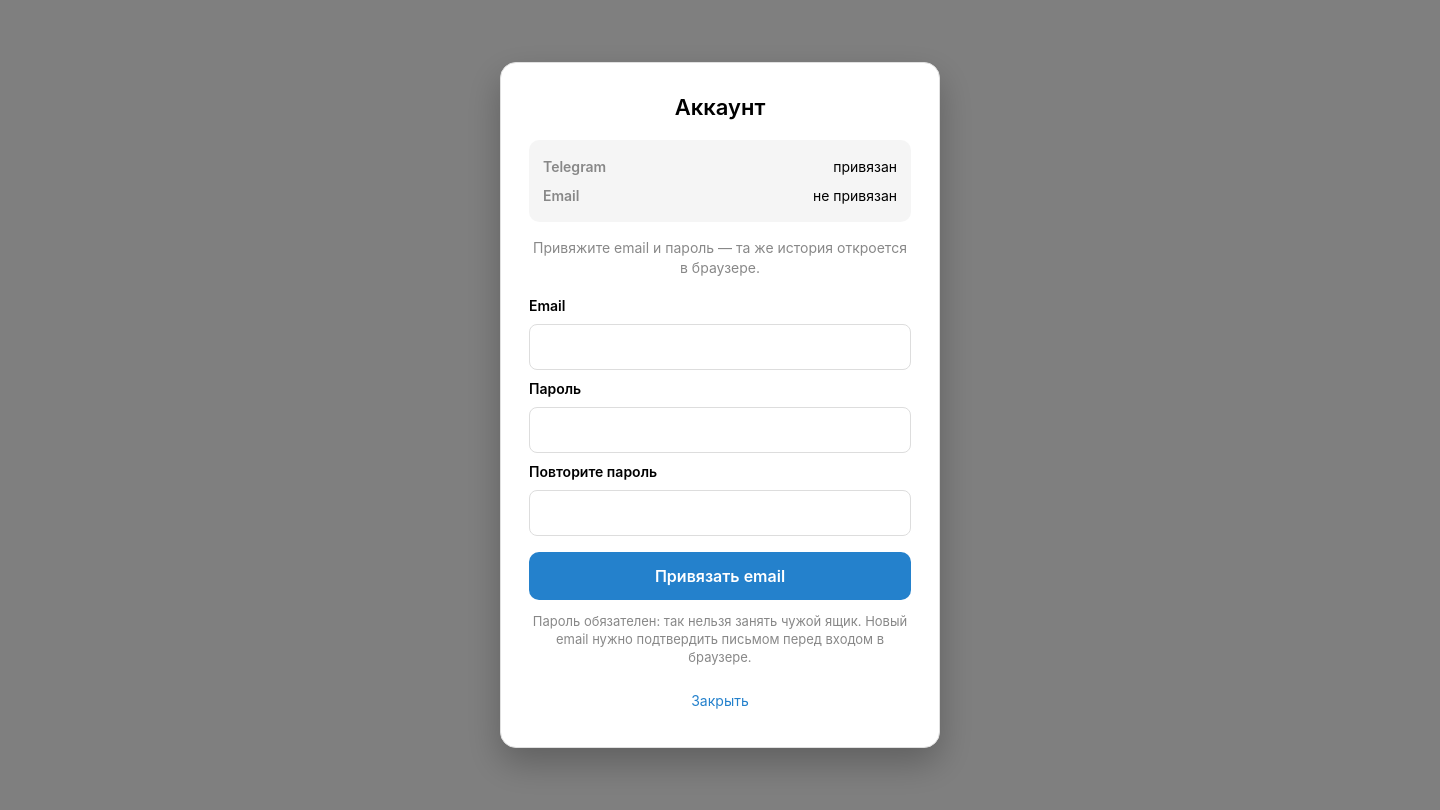
Test case: AccountModal › rejects mismatched passwords without calling the API
The image size is (1440, 810).
Type "kai@example.com" into the field labelled "Email".
click(720, 346); type("kai@example.com")  # box [529,324,911,370]
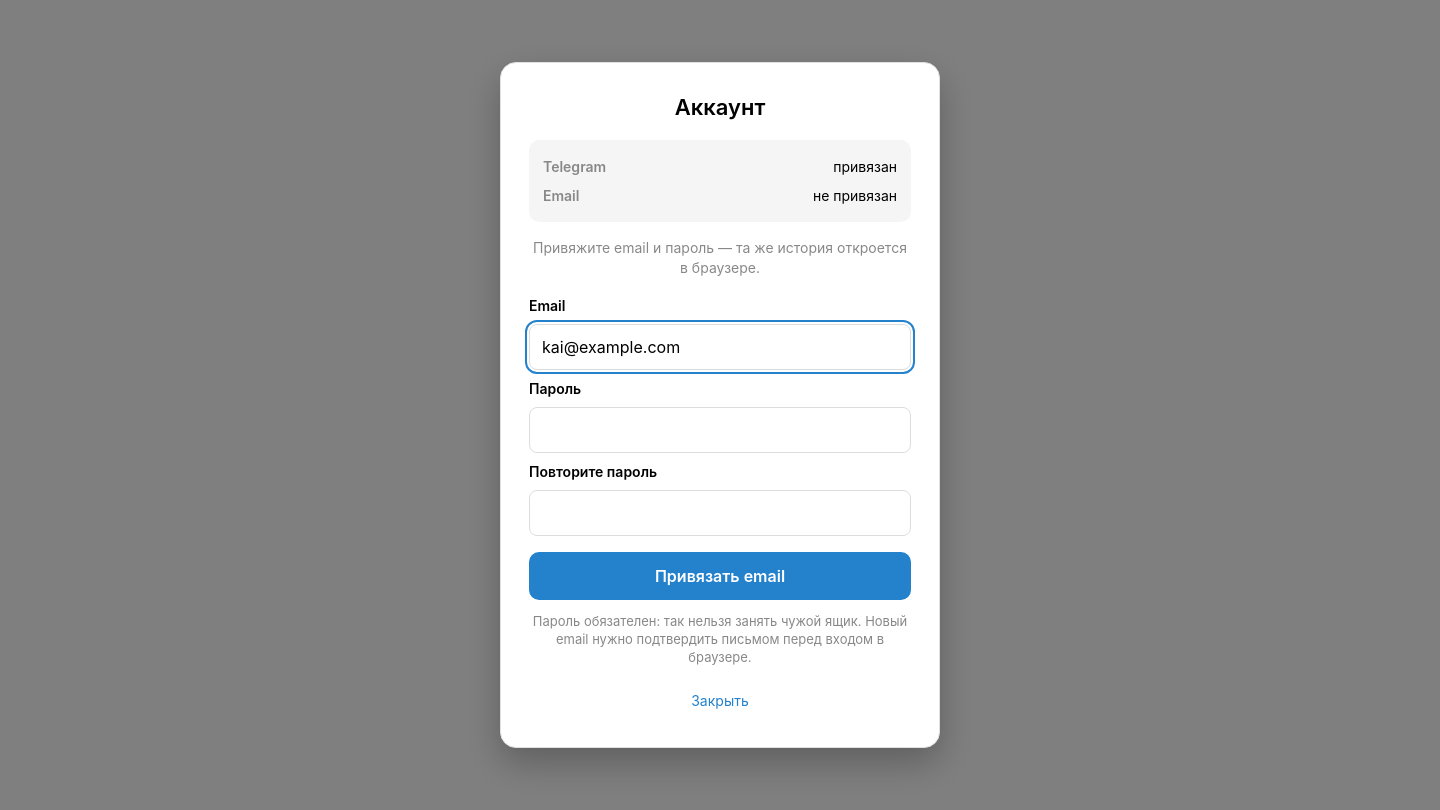
Type "secret12" into the password field labelled "Пароль".
click(720, 430); type("secret12")  # box [529,406,911,452]
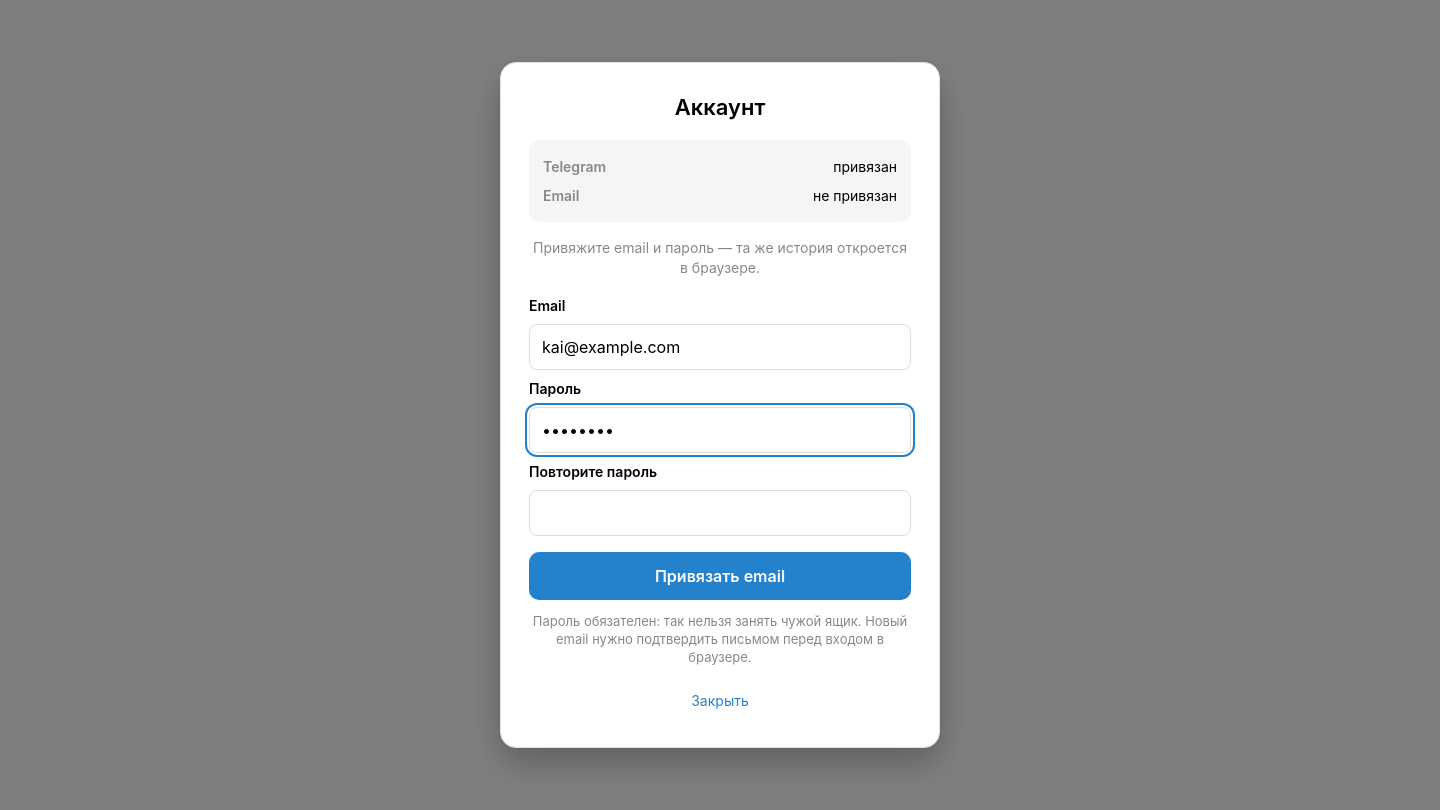
Type "secret13" into the password field labelled "Повторите пароль".
click(720, 512); type("secret13")  # box [529,490,911,536]
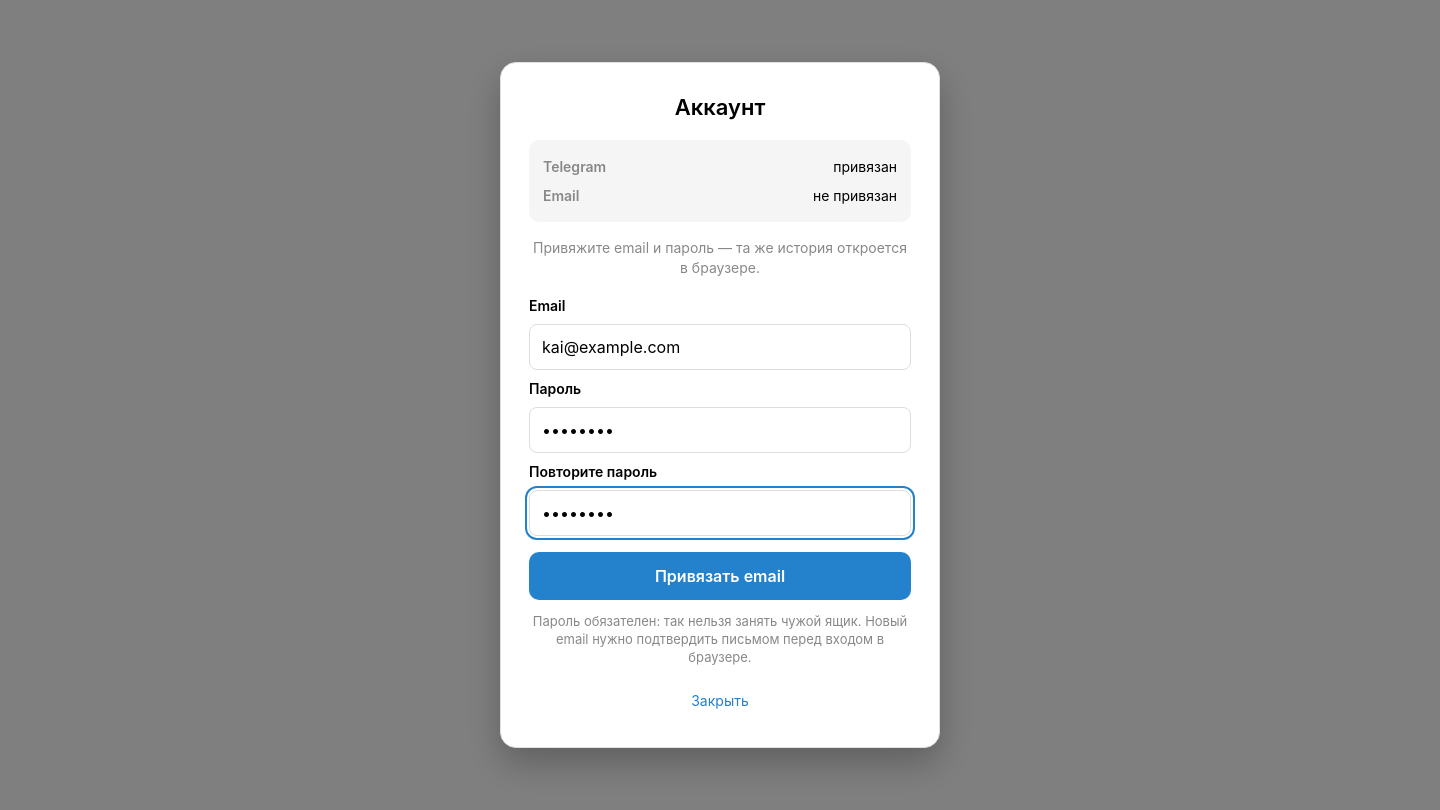
Click the button "Привязать email".
click(720, 576)  # box [529,552,911,600]
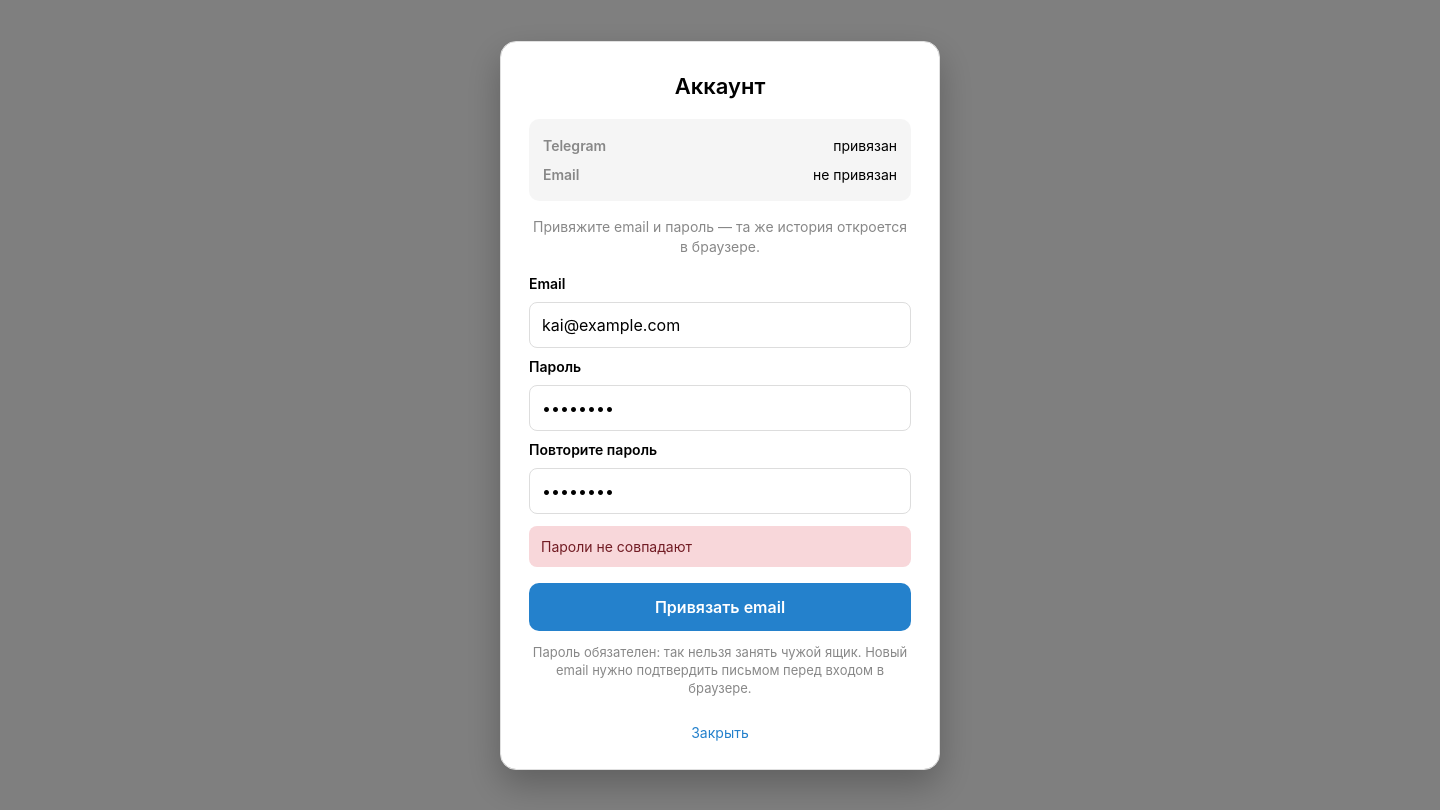
Check: the message reads "Пароли не совпадают", box [541,538,692,555]
